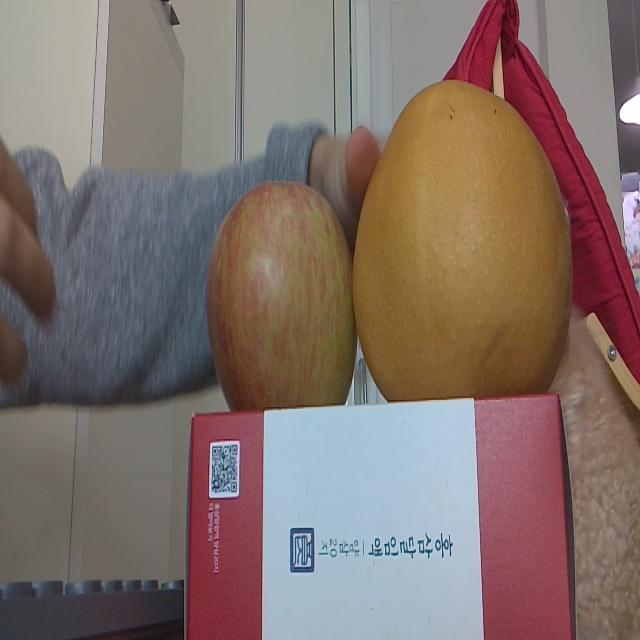apple: (205, 185, 357, 407)
pear: (353, 79, 575, 399)
